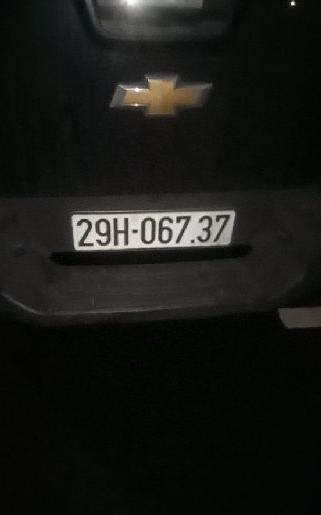Plate-iWeP: (71, 208, 234, 254)
